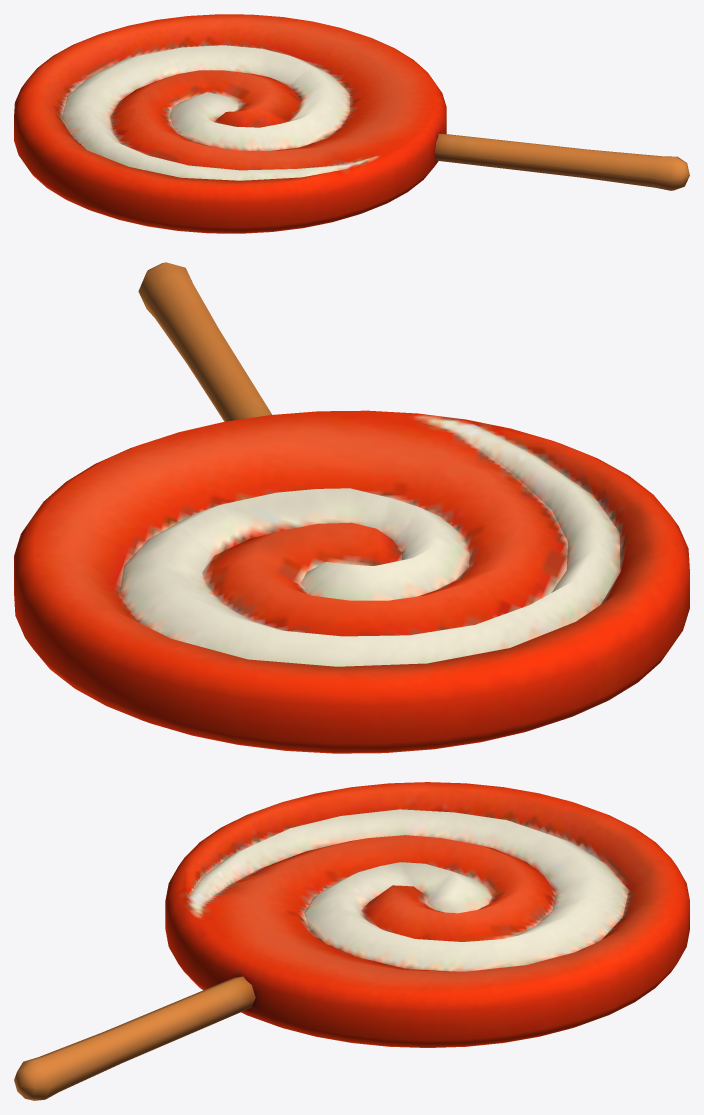
The model's file is Lollipop.obj.
3 views of the same model, one above another, from view 1: azimuth 30°, elevation 25°; view 2: azimuth 150°, elevation 25°; view 3: azimuth 270°, elevation 25° (orthographic). The views are drawn at different scales.
Visible parts, largest first — view 1: Lollipop; view 2: Lollipop; view 3: Lollipop.
Part boxes in pixels (<box>): Lollipop: <box>14,14,689,233</box>; Lollipop: <box>14,262,689,753</box>; Lollipop: <box>14,782,689,1100</box>.
Size of the model in its own units: 0.2596 by 0.0245 by 0.2596.
Materials: 1 (1 with a texture image).
